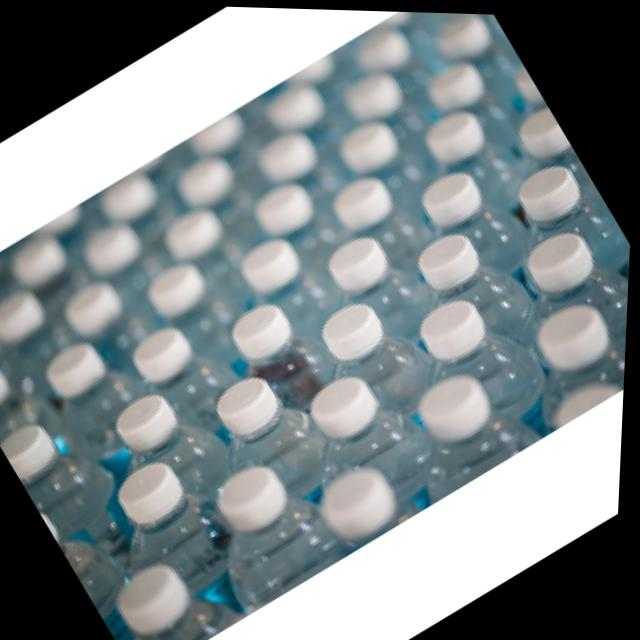plastic_water_bottles: (184, 439, 347, 605), (280, 352, 416, 484), (403, 347, 535, 467), (92, 373, 215, 484), (96, 543, 236, 640), (217, 281, 331, 392), (195, 353, 302, 460), (514, 208, 628, 308), (502, 144, 611, 248), (0, 403, 100, 512), (312, 218, 416, 321)
